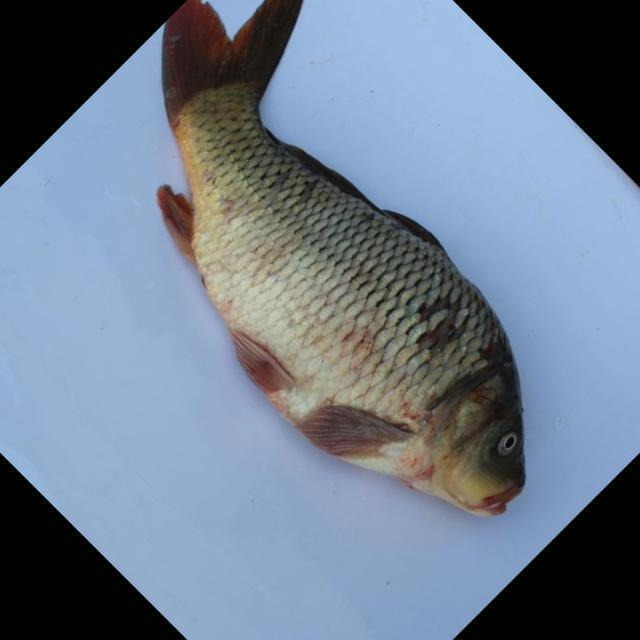CommonCarp: (151, 1, 551, 531)
